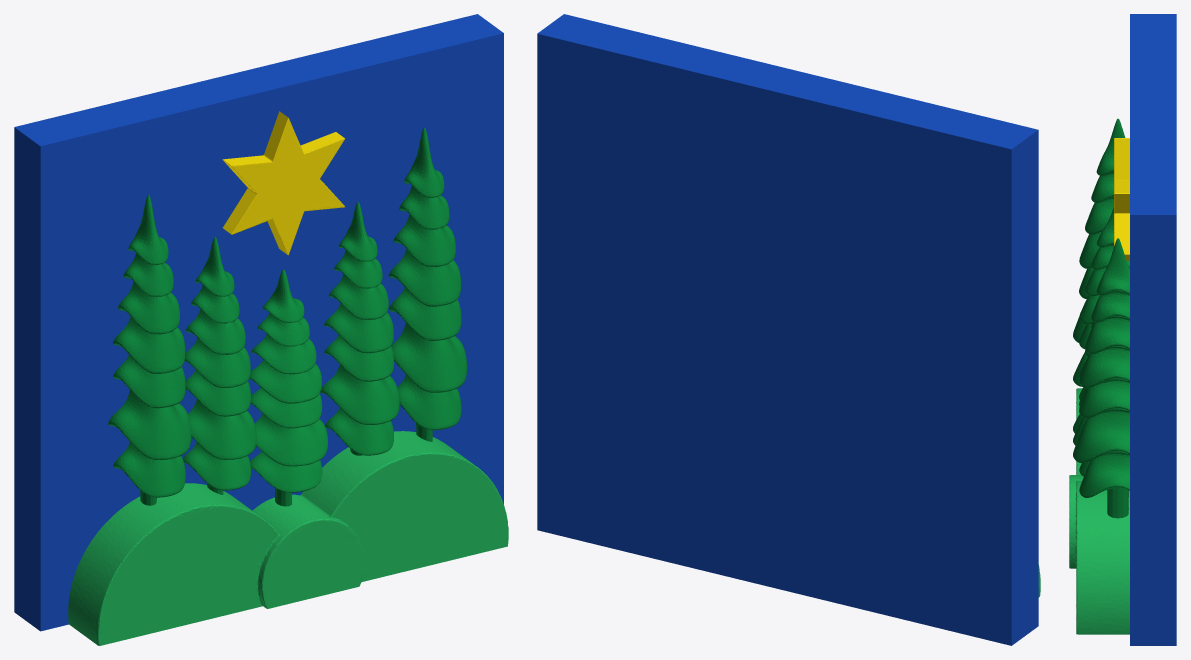
Rendered from Zuzgen_LOD1.glb.
The picture shows the model from 3 angles, left to right: view 1: azimuth 30°, elevation 25°; view 2: azimuth 150°, elevation 25°; view 3: azimuth 270°, elevation 25°; orthographic projection. The views are drawn at different scales.
Parts seen in each view (by area): view 1: Box (×2), Cylinder, Cone 2, Cone 4, Cone 3, Cone 1, Cone; view 2: Box; view 3: Box (×2), Cone 4, Cylinder, Cone 2, Cone 1, Cone 3.
Part boxes in pixels (x1,y1,x2,y2): Box (×2): [14, 14, 503, 631]; Cylinder: [68, 431, 508, 645]; Cone 2: [108, 195, 191, 505]; Cone 4: [388, 127, 466, 441]; Cone 3: [320, 202, 399, 455]; Cone 1: [183, 237, 256, 494]; Cone: [249, 269, 327, 506]; Box: [537, 14, 1038, 645]; Box (×2): [1114, 14, 1176, 645]; Cone 4: [1073, 238, 1129, 518]; Cylinder: [1069, 388, 1129, 634]; Cone 2: [1073, 118, 1125, 342]; Cone 1: [1073, 207, 1129, 407]; Cone 3: [1073, 321, 1094, 476].
Size of the model in its own units: 4.75 by 4.75 by 1.08.
